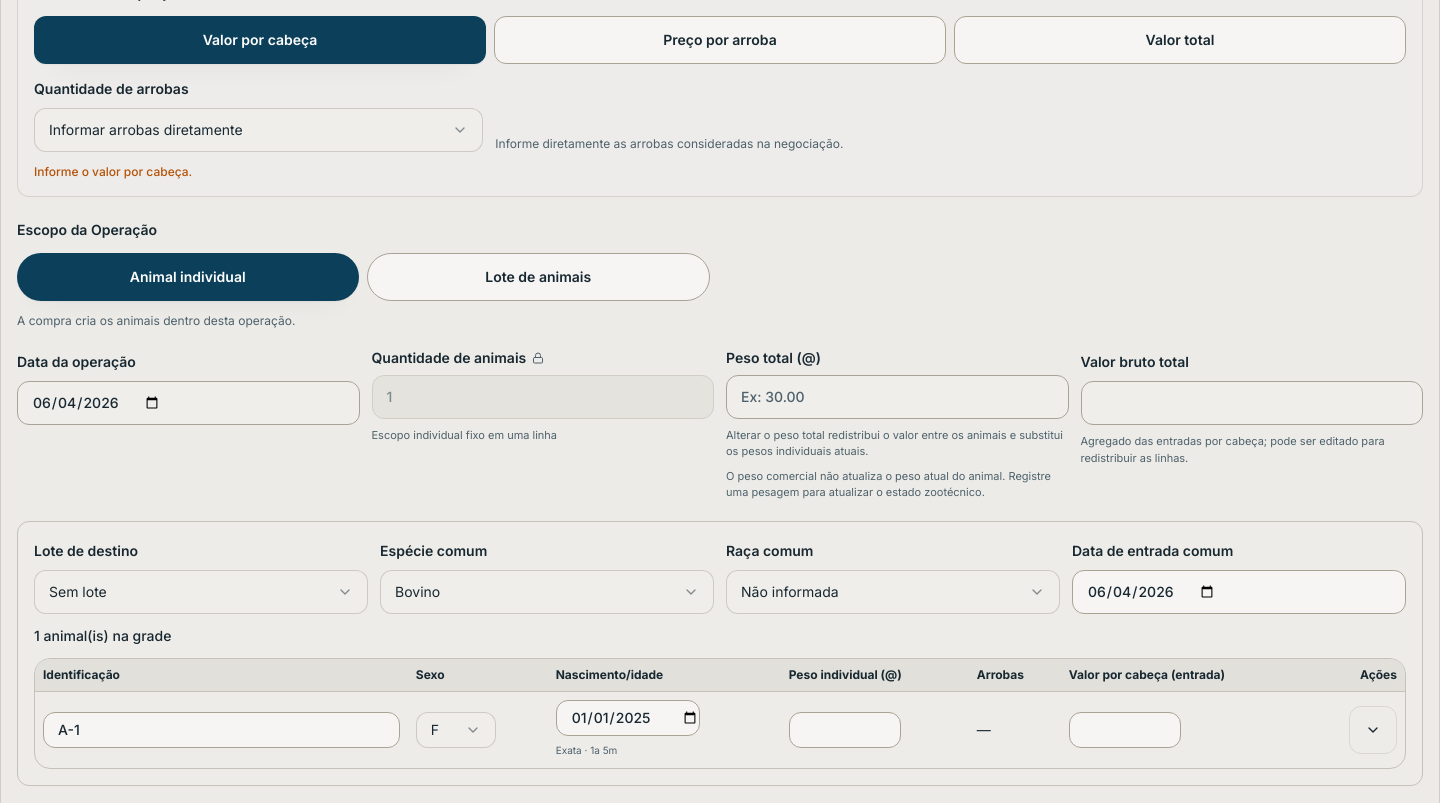
it: RegistrarComercialSection › mantém compra individual em uma linha e redistribui ao mudar para lote
The image size is (1440, 803).
(page scrolled)
Expected: the number field named "Quantidade de Animais" holds "1", [372,374,714,418]
Expected: the number field named "Quantidade de Animais" is disabled, [372,374,714,418]
Type "10" into the number field named "Valor Bruto (R$)".
click(1252, 403); type("10")  # box [1080,381,1423,425]
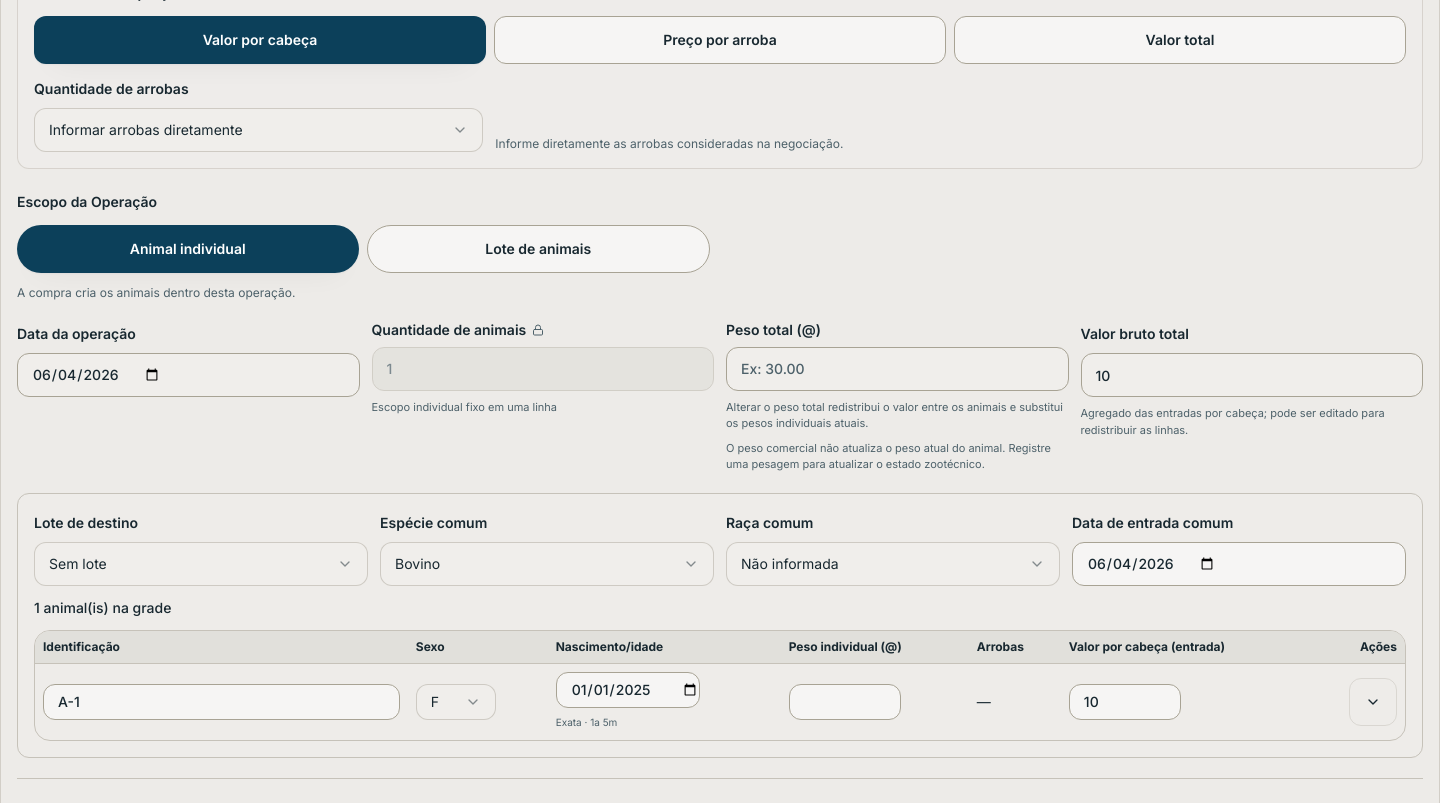
Click the button "Lote de animais".
click(538, 249)  # box [366,225,710,273]
(page scrolled)
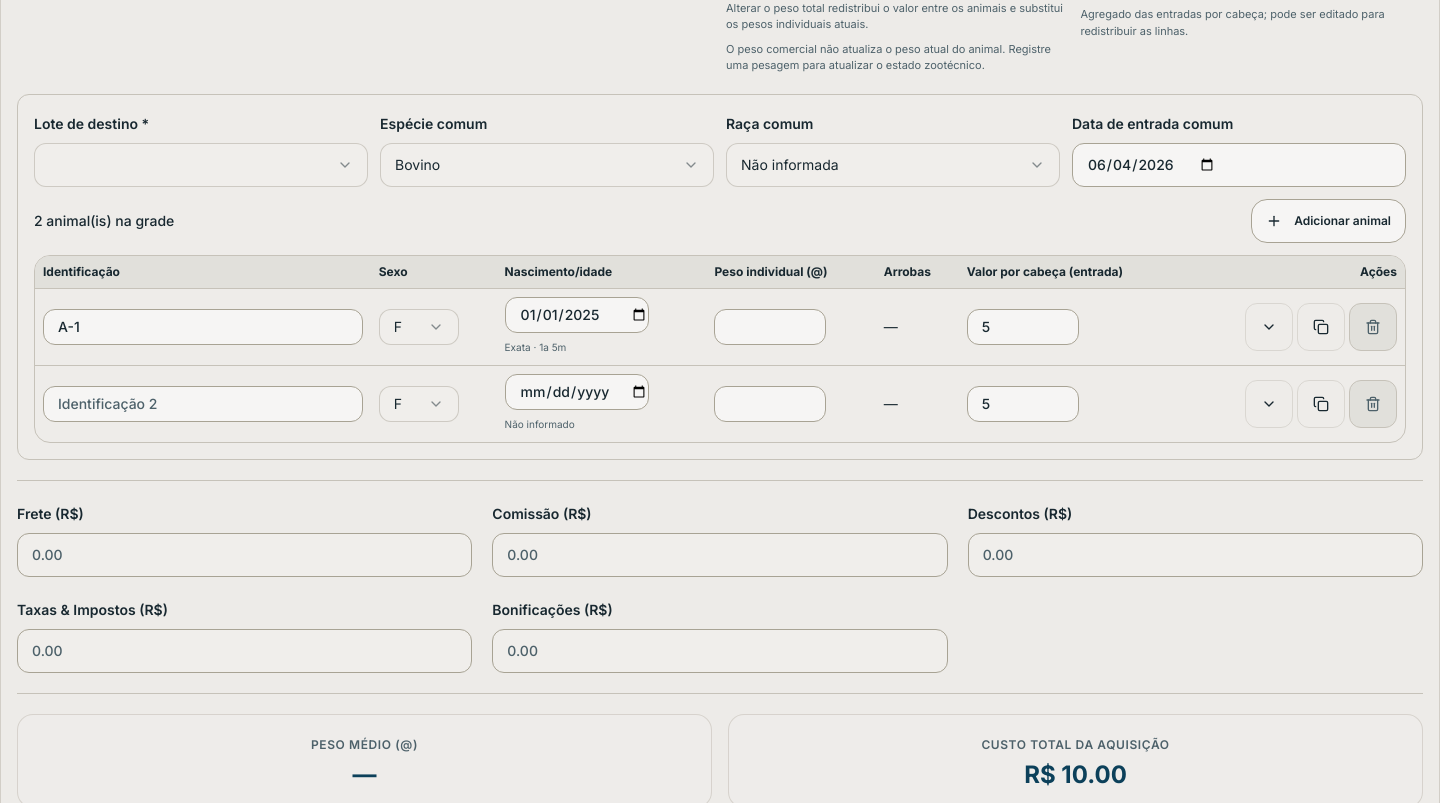
Result: the number of fields named "Identificação animal" is 2 at [43,308,363,344]; [43,386,363,422]
Result: the number field named "Valor animal 1" holds "5" at [967,308,1079,344]
Result: the number field named "Valor animal 2" holds "5" at [967,386,1079,422]
